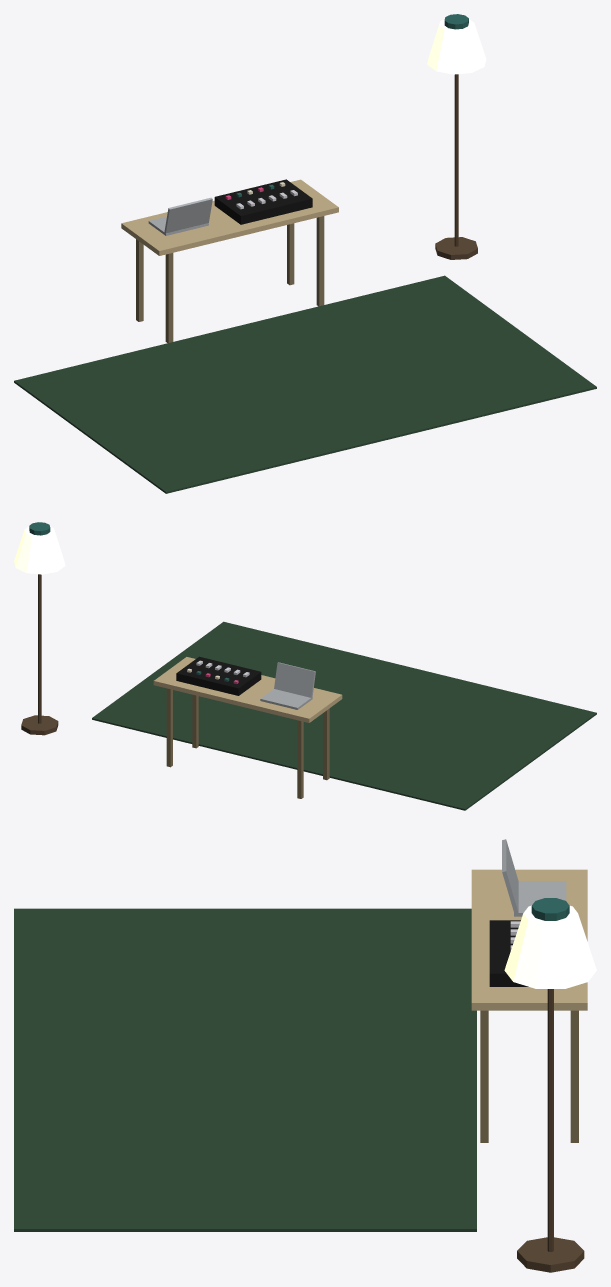
Rendered from lwf_stage_set_electronic_v1.glb.
The picture shows the model from 3 angles, top to bottom: view 1: azimuth 30°, elevation 25°; view 2: azimuth 150°, elevation 25°; view 3: azimuth 270°, elevation 25°; orthographic projection. The views are drawn at different scales.
Visible parts, largest first — view 1: Rug, Props, LampShade; view 2: Rug, Props, LampShade; view 3: Rug, Props, LampShade.
Part boxes in pixels (<box>): Rug: <box>14,275,596,493</box>; Props: <box>121,14,477,342</box>; LampShade: <box>427,19,486,74</box>; Rug: <box>92,621,596,810</box>; Props: <box>21,522,342,798</box>; LampShade: <box>14,526,65,574</box>; Rug: <box>14,908,476,1231</box>; Props: <box>471,839,587,1272</box>; LampShade: <box>504,905,596,988</box>.
Bounding box in the file's own units: 4.11 × 1.85 × 2.77.
Materials: 3 (1 with a texture image).
